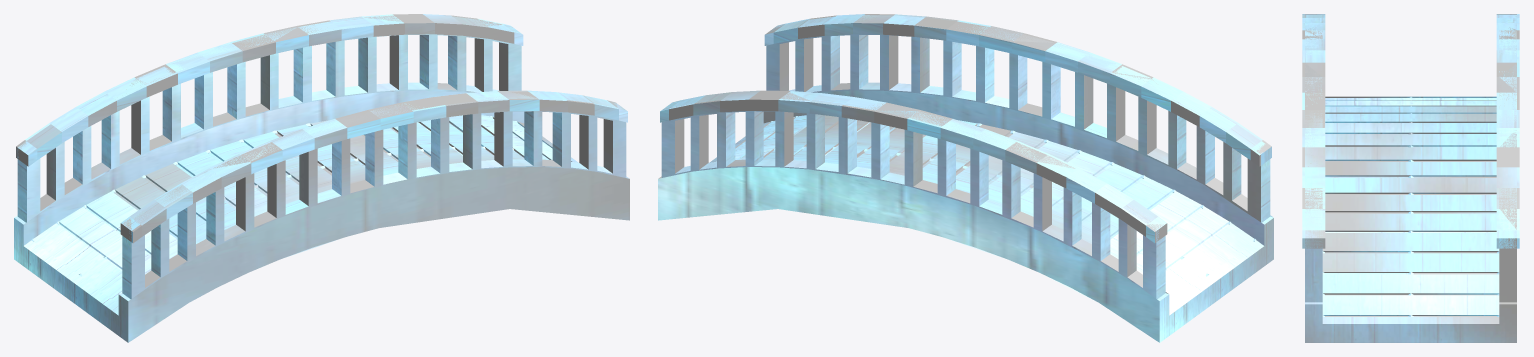
The model's file is bridge.glb.
The picture shows the model from 3 angles, left to right: view 1: azimuth 30°, elevation 25°; view 2: azimuth 150°, elevation 25°; view 3: azimuth 270°, elevation 25°; orthographic projection. The views are drawn at different scales.
Parts seen in each view (by area): view 1: Cube.001; view 2: Cube.001; view 3: Cube.001.
Part boxes in pixels (box(x1,y1,x2,y2)): Cube.001: box(14, 14, 629, 342); Cube.001: box(658, 14, 1273, 342); Cube.001: box(1302, 14, 1519, 342).
Size of the model in its own units: 4.28 by 1.34 by 1.73.
